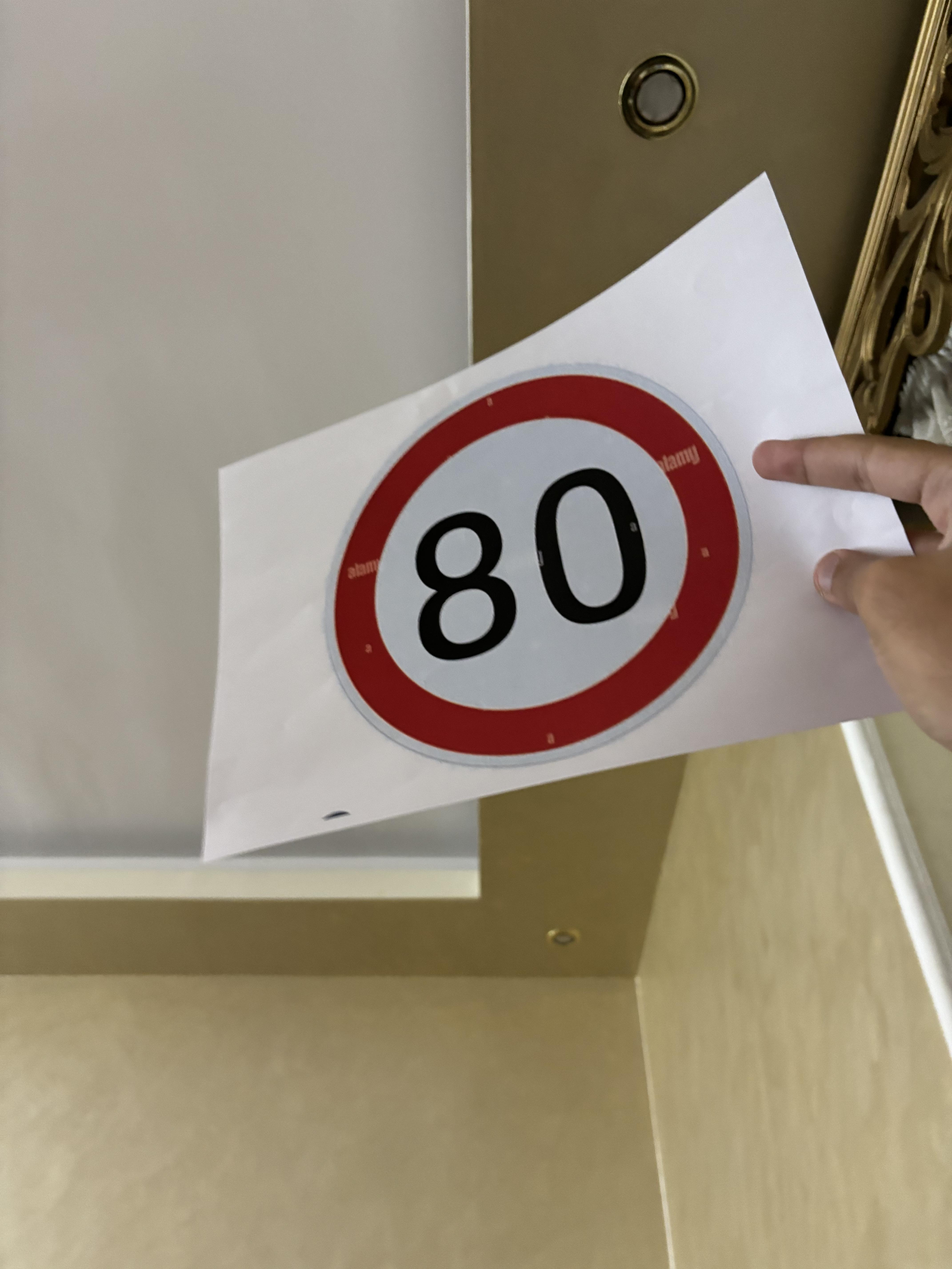80-Speed: (323, 363, 758, 774)
